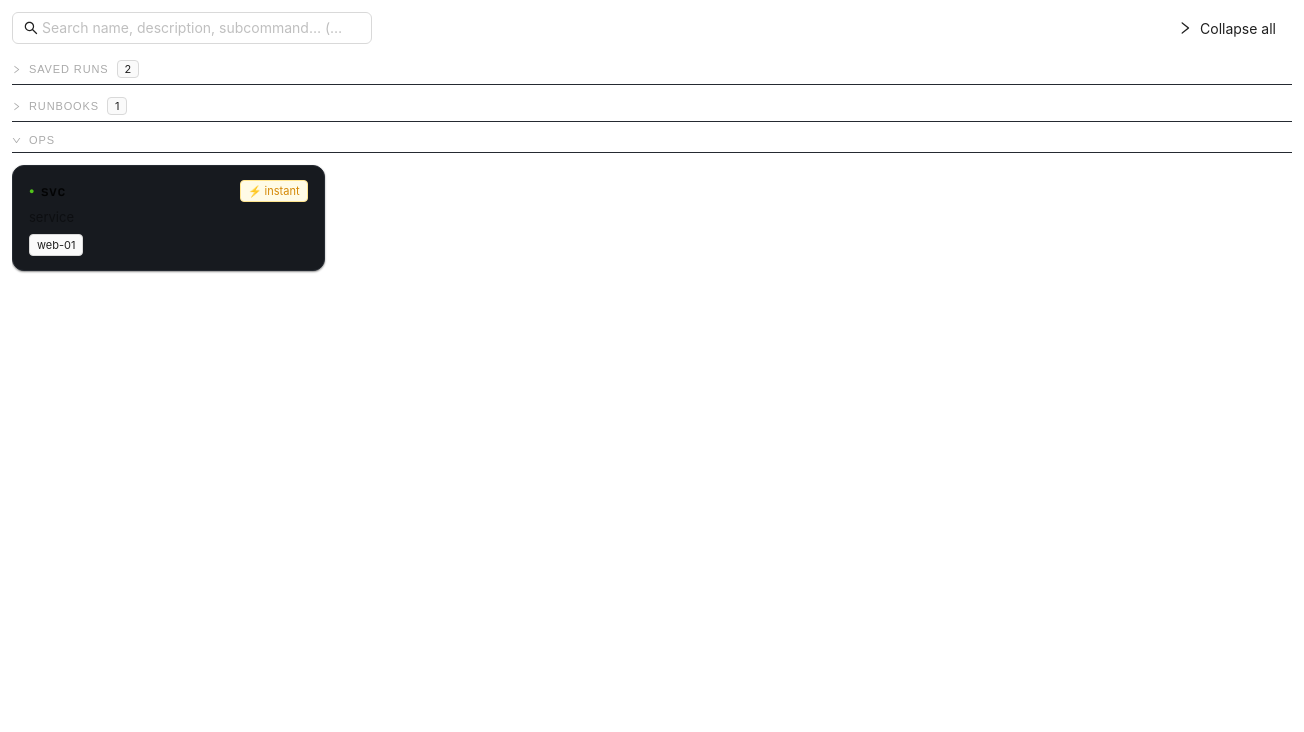
it: Forms → collapsible sections › collapse all / expand all toggles every section
Click the button "Collapse all": (1227, 28) [1162,12,1292,44]
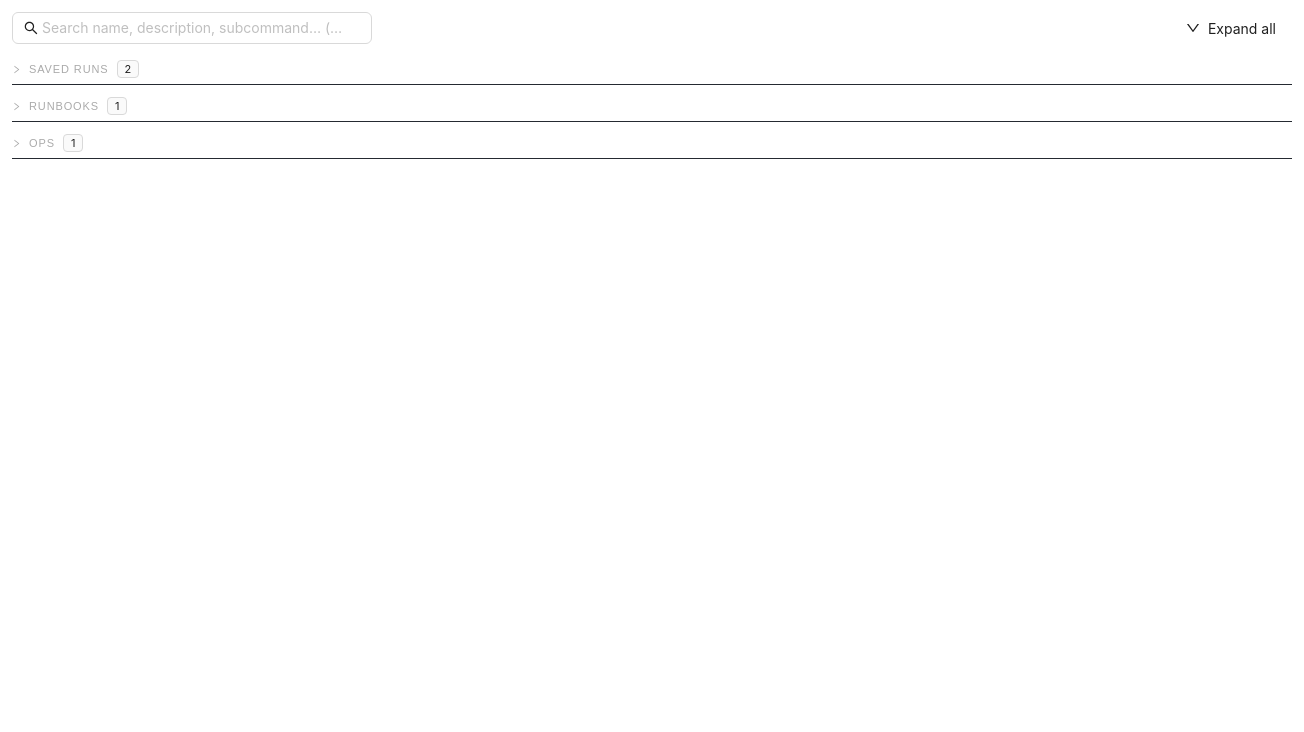
Now the button " ops" is collapsed, box [12,134,1292,159]
Click the button "Expand all": (1231, 28) [1170,12,1292,44]
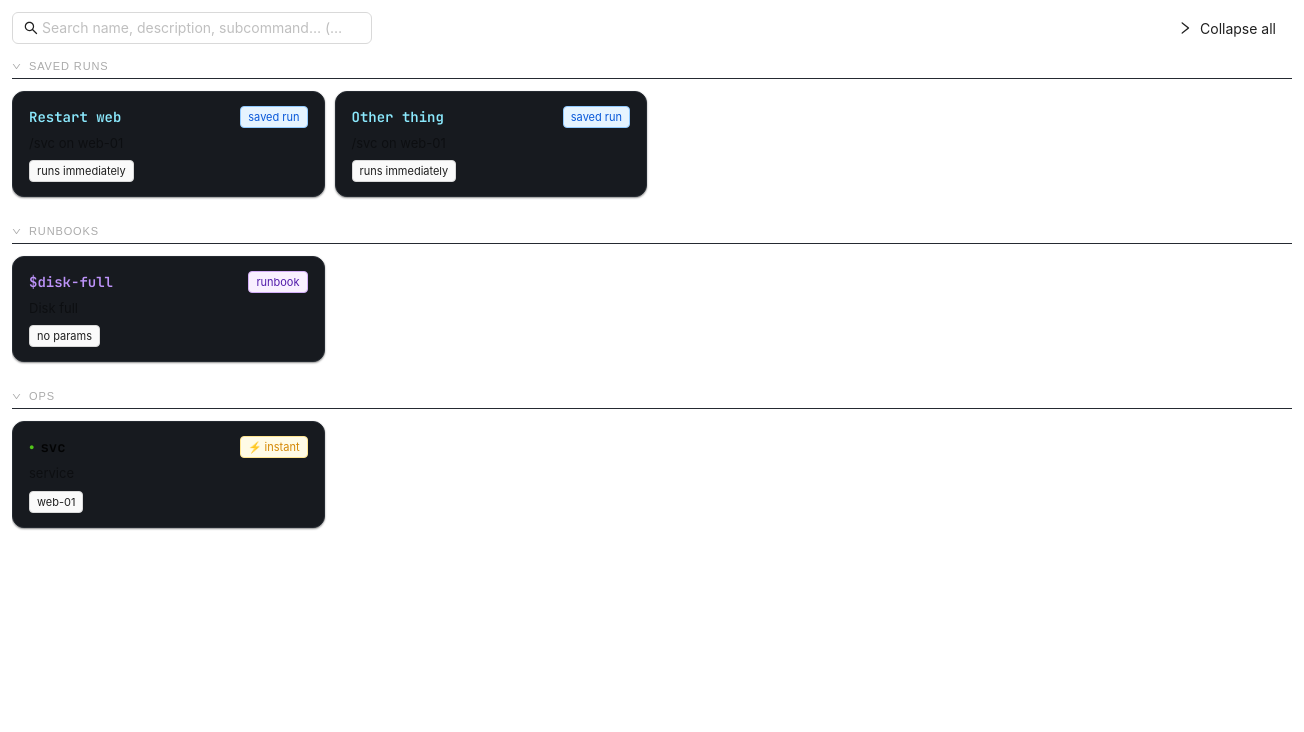
Now the button "Saved runs" is expanded, box [12,60,1292,79]
Now the text "Restart web" is shown, box [29,106,121,128]
